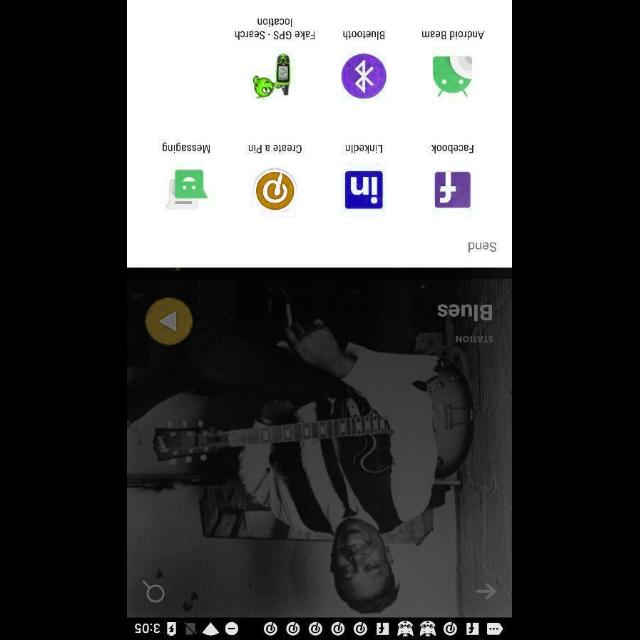button: (146, 298, 194, 344)
icon: (341, 53, 387, 99), (434, 172, 472, 208), (142, 579, 166, 603), (478, 582, 497, 598)
image: (253, 168, 297, 212), (165, 169, 209, 211), (254, 54, 292, 100), (433, 56, 472, 98), (344, 171, 384, 209)
panel: (128, 0, 512, 266)
text: (234, 18, 316, 40), (438, 304, 494, 322), (163, 142, 211, 154), (249, 144, 303, 154), (422, 32, 484, 40), (432, 144, 474, 154), (346, 144, 382, 154), (468, 241, 498, 253), (343, 32, 385, 40), (456, 336, 494, 342)
uppertaskbar: (128, 617, 512, 639)
